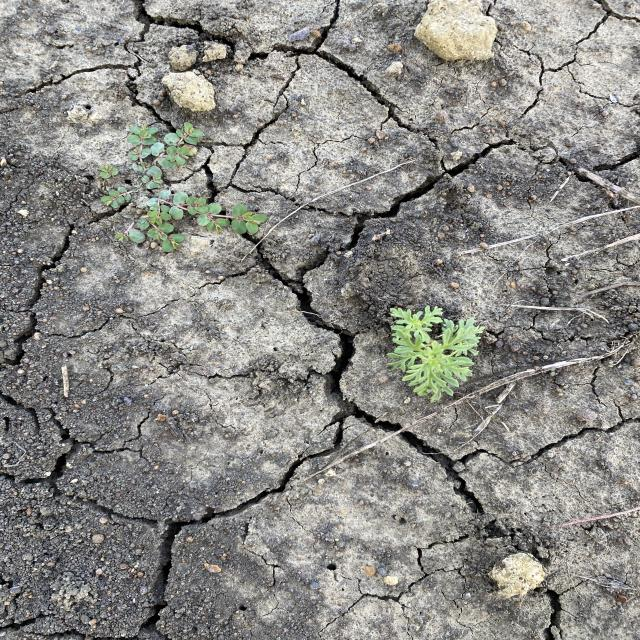Ragweed: (385, 304, 489, 403)
SpottedSpurge: (95, 119, 270, 254)
